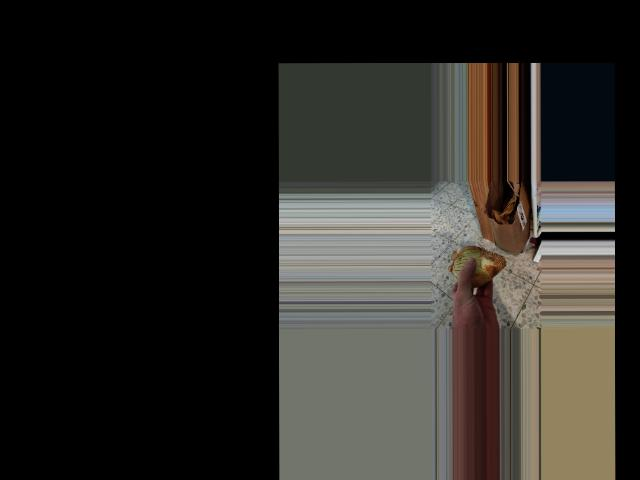onion: (450, 238, 508, 292)
